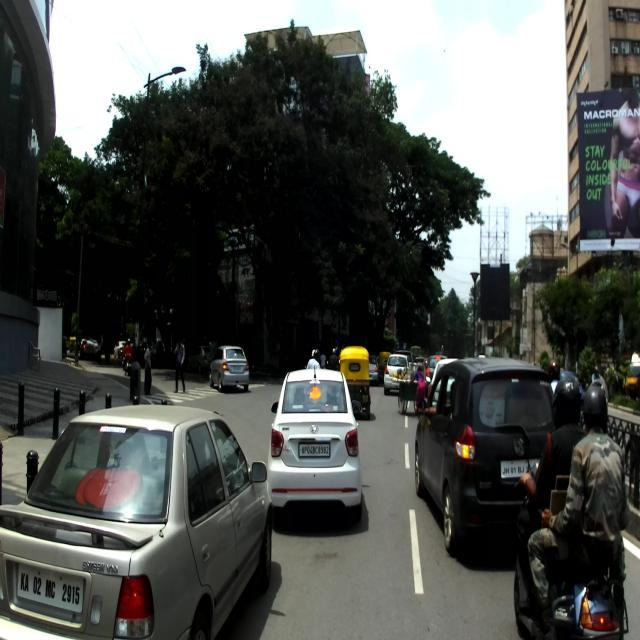car: (0, 403, 272, 640), (414, 357, 559, 559), (266, 363, 362, 525)
scooter: (512, 434, 629, 640)
